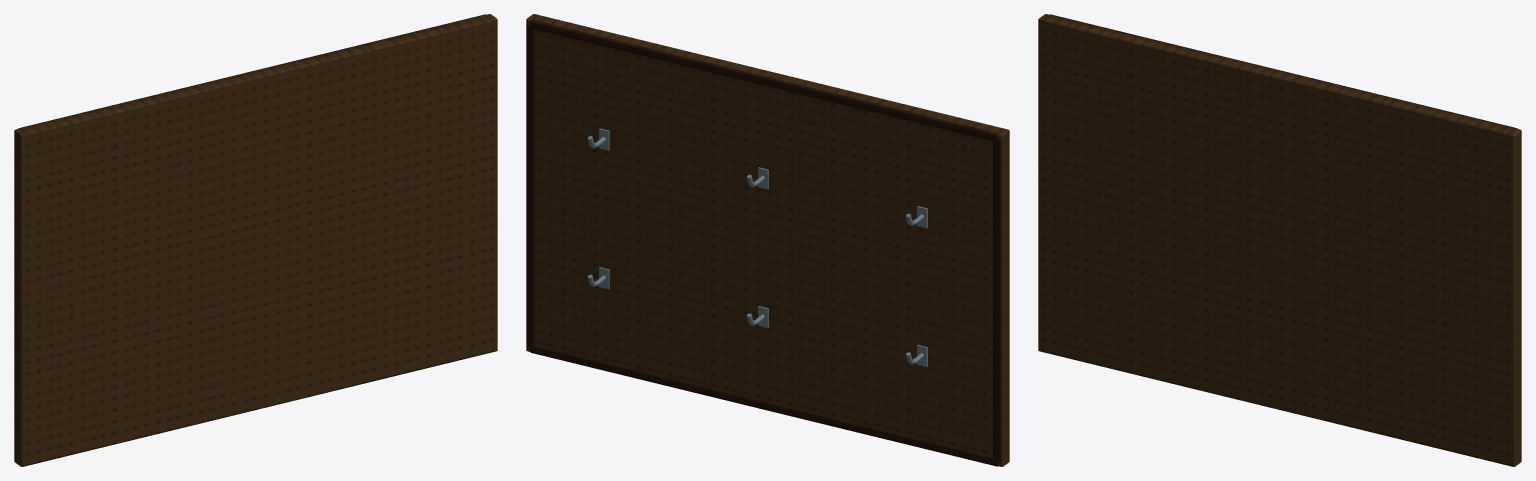
The model's file is StoragePegboard.gltf.
3 views of the same model, side by side, from view 1: azimuth 30°, elevation 25°; view 2: azimuth 150°, elevation 25°; view 3: azimuth 330°, elevation 25° (orthographic).
Visible parts, largest first — view 1: StoragePegboard__Body; view 2: StoragePegboard__Body; view 3: StoragePegboard__Body.
Boxes of the visible parts, box(x1,y1,x2,y2) form: StoragePegboard__Body: box(14, 14, 497, 466); StoragePegboard__Body: box(526, 14, 1009, 466); StoragePegboard__Body: box(1038, 14, 1521, 466).
Bounding box in the file's own units: 1.26 × 0.84 × 0.1084.
Materials: 1 (1 with a texture image).
